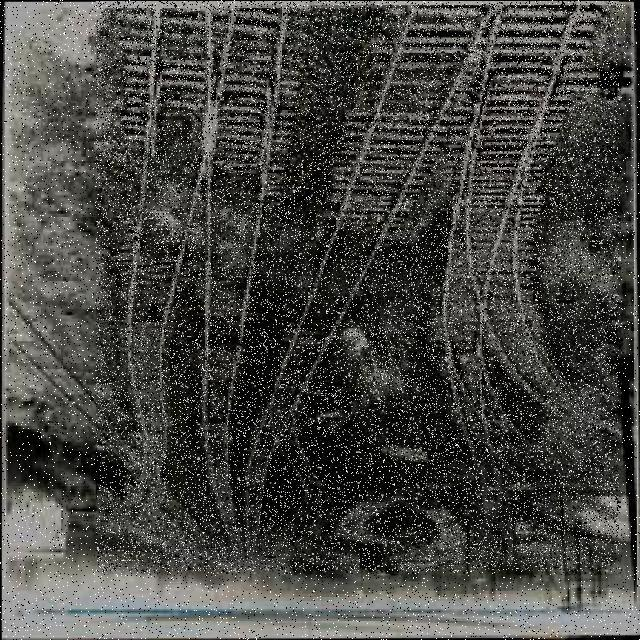rail: (97, 1, 619, 571)
